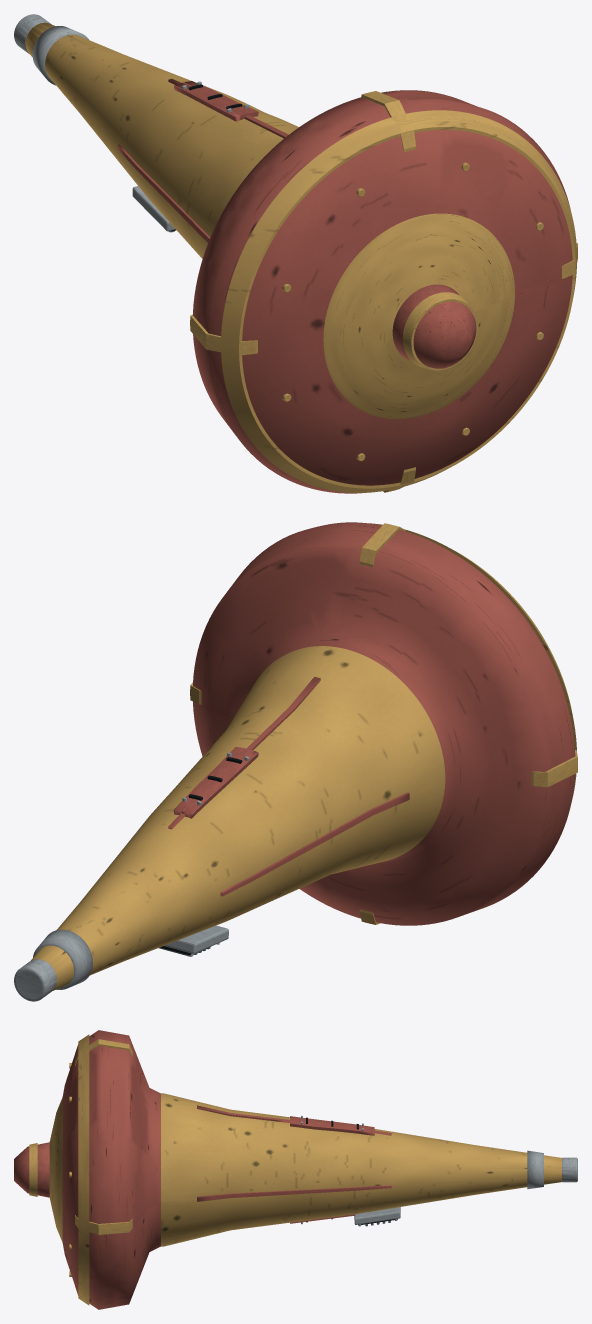
3 renders of one model, top to bottom at view 1: azimuth 30°, elevation 25°; view 2: azimuth 150°, elevation 25°; view 3: azimuth 270°, elevation 25°, orthographic. The views are drawn at different scales.
Parts seen in each view (by area): view 1: PrimaryHullAndArmour, RecessedMachinery, TrimAndFasteners, ServiceAssemblies; view 2: PrimaryHullAndArmour, ServiceAssemblies, TrimAndFasteners; view 3: PrimaryHullAndArmour, TrimAndFasteners, ServiceAssemblies, RecessedMachinery.
Boxes of the visible parts, x1,y1,x2,y2 form: PrimaryHullAndArmour: (14,14,577,493); RecessedMachinery: (188,84,514,419); TrimAndFasteners: (117,79,576,492); ServiceAssemblies: (32,26,258,231); PrimaryHullAndArmour: (14,522,577,1001); ServiceAssemblies: (33,747,258,989); TrimAndFasteners: (168,523,576,956); PrimaryHullAndArmour: (14,1030,577,1309); TrimAndFasteners: (29,1034,397,1305); ServiceAssemblies: (290,1116,543,1226); RecessedMachinery: (49,1097,358,1242).
Size of the model in its own units: 1.68 by 1.68 by 3.33.
1 material, 1 textured.
